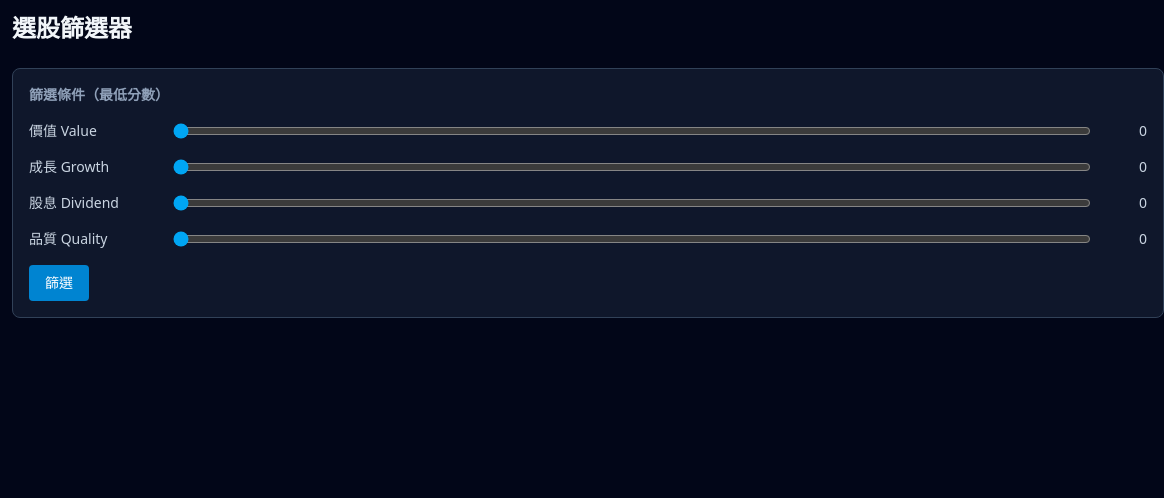
Test: ScreenerPage › shows results after clicking filter button
Click the button with test id "screener-filter-btn" at x=59, y=283, box [29,265,89,301]
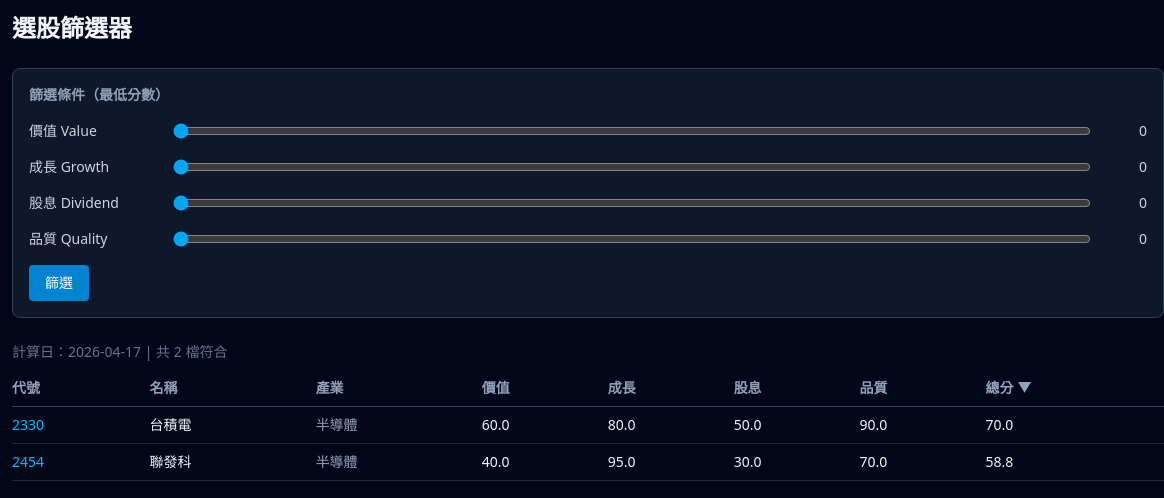
Expected: the text "台積電" is shown, [150,406,316,444]
Expected: the text "聯發科" is shown, [150,444,316,480]
